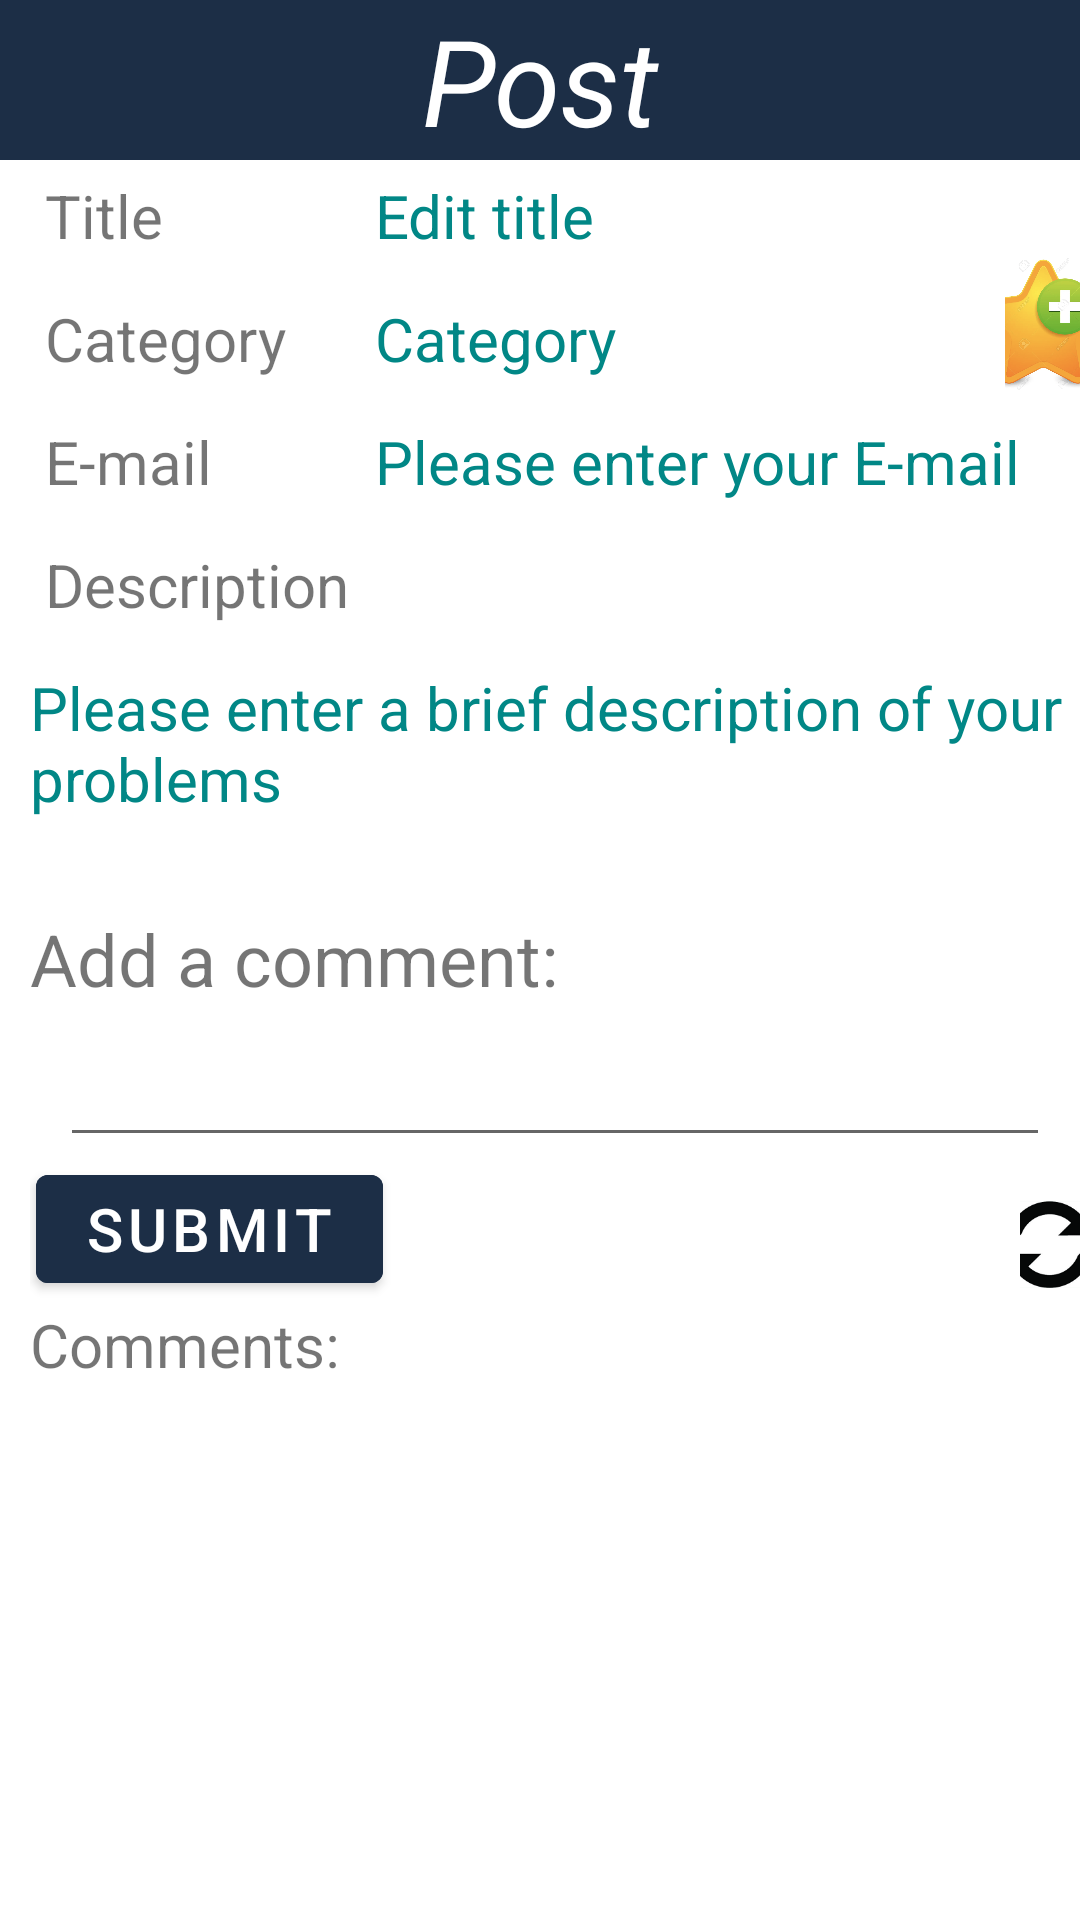

Locate icon controls on the screen. Image size 1080 x 1920, boxes as bbox=[x1, y1, x2, y2].
collection: bbox=[1005, 259, 1080, 386]
refresh: bbox=[1020, 1201, 1080, 1288]
